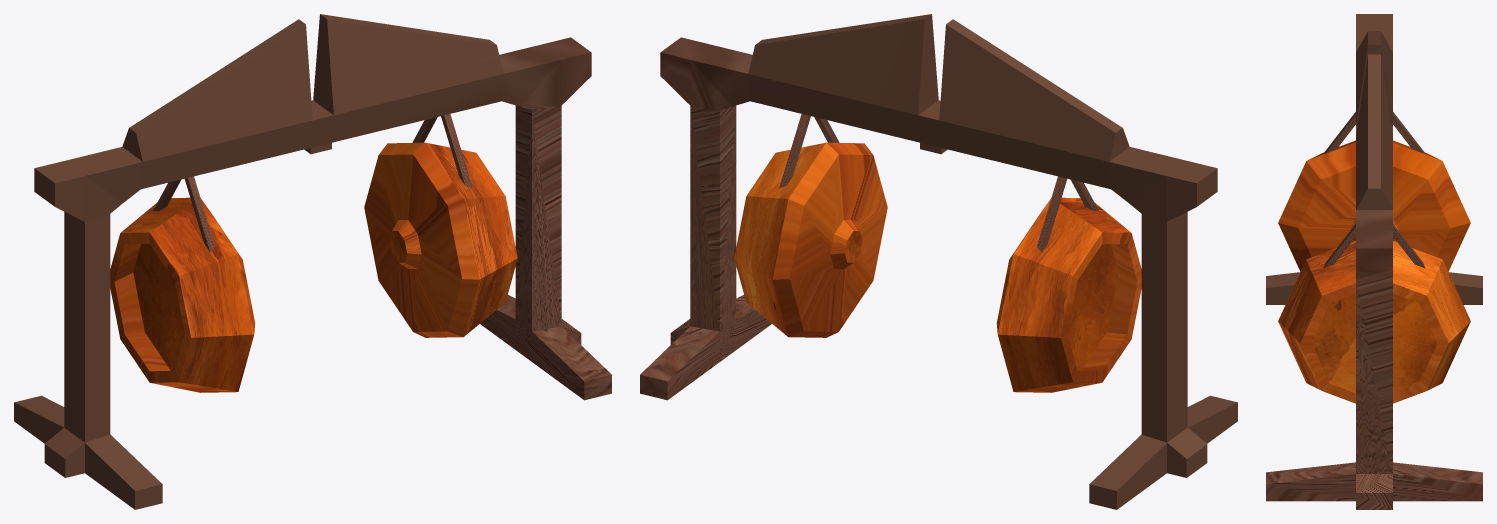
File: Gong.fbx
The picture shows the model from 3 angles, left to right: view 1: azimuth 30°, elevation 25°; view 2: azimuth 150°, elevation 25°; view 3: azimuth 270°, elevation 25°; orthographic projection. The views are drawn at different scales.
Parts seen in each view (by area): view 1: Gong; view 2: Gong; view 3: Gong.
Boxes of the visible parts, x1,y1,x2,y2 form: Gong: (14,14,611,509); Gong: (640,14,1237,509); Gong: (1266,14,1482,509).
Size of the model in its own units: 307 by 212 by 120.
1 material, 1 textured.
